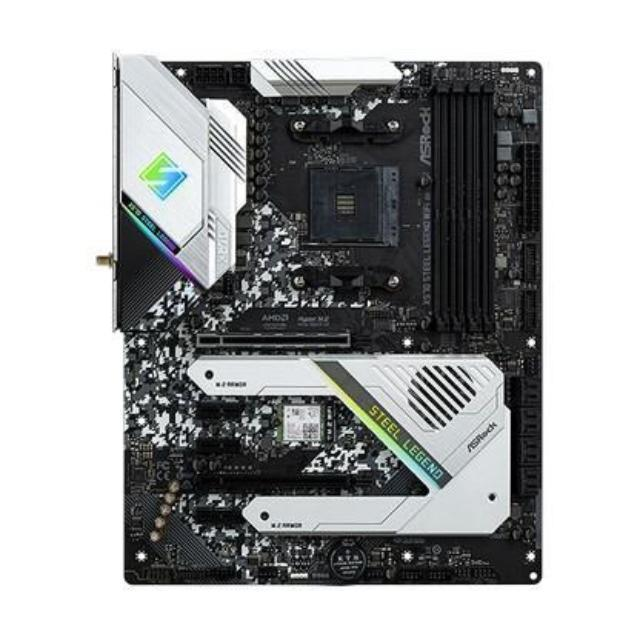Mainboard: (93, 36, 553, 590)
